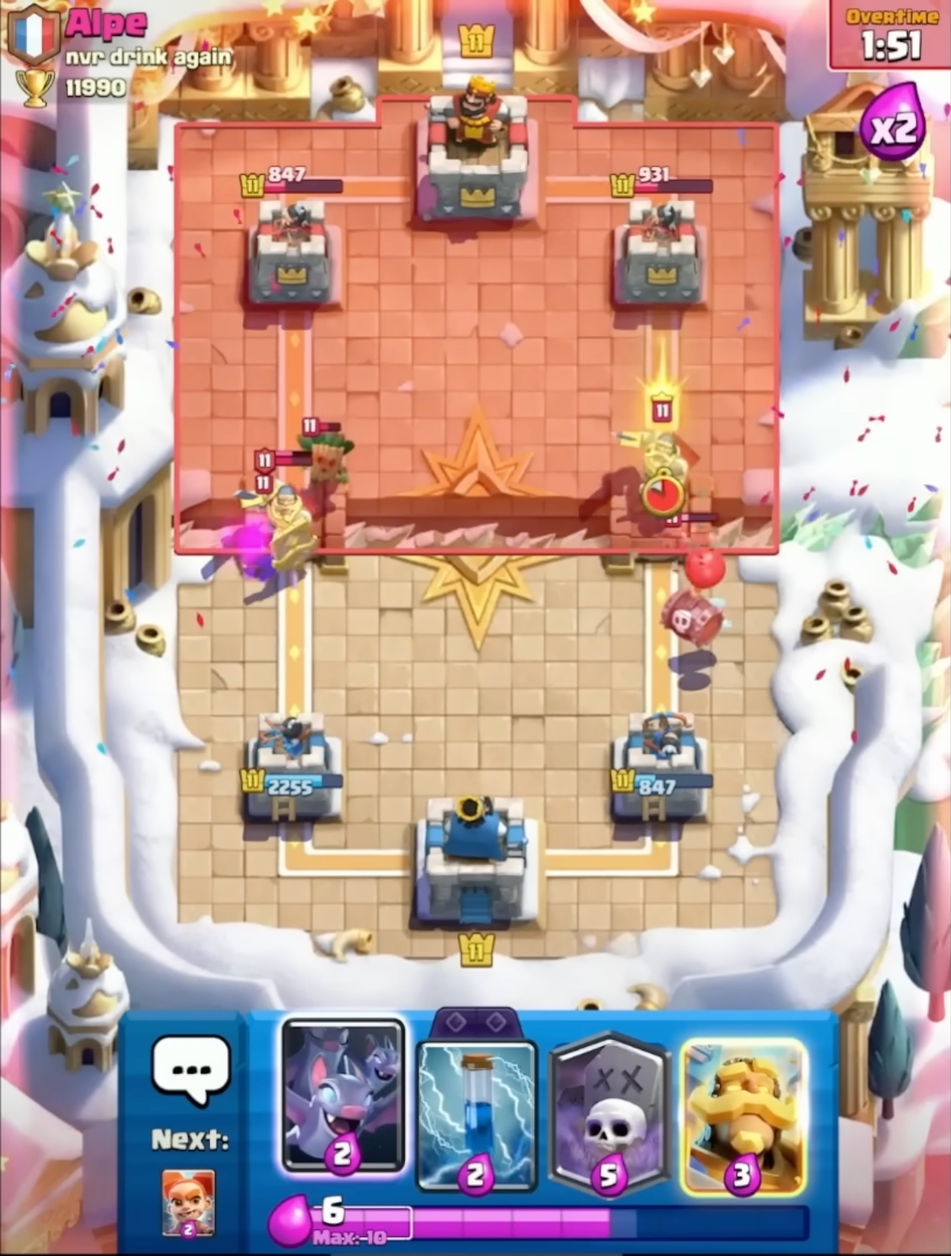dart-goblin: (289, 410, 362, 486)
hero-knight: (231, 446, 337, 580), (613, 381, 705, 529)
skeleton-barrel: (661, 507, 735, 661)
